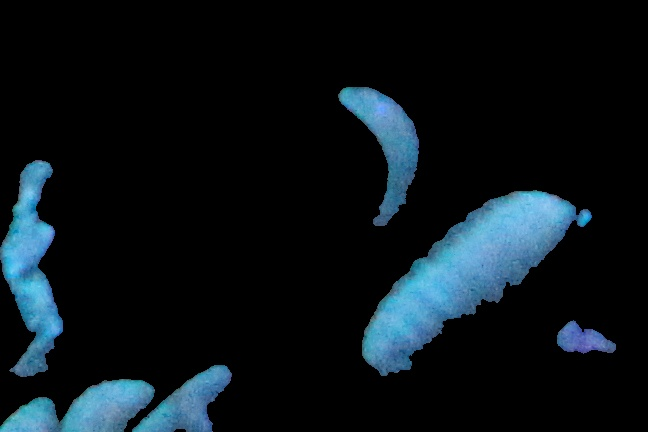larvae: (359, 192, 575, 381), (339, 77, 432, 230)
